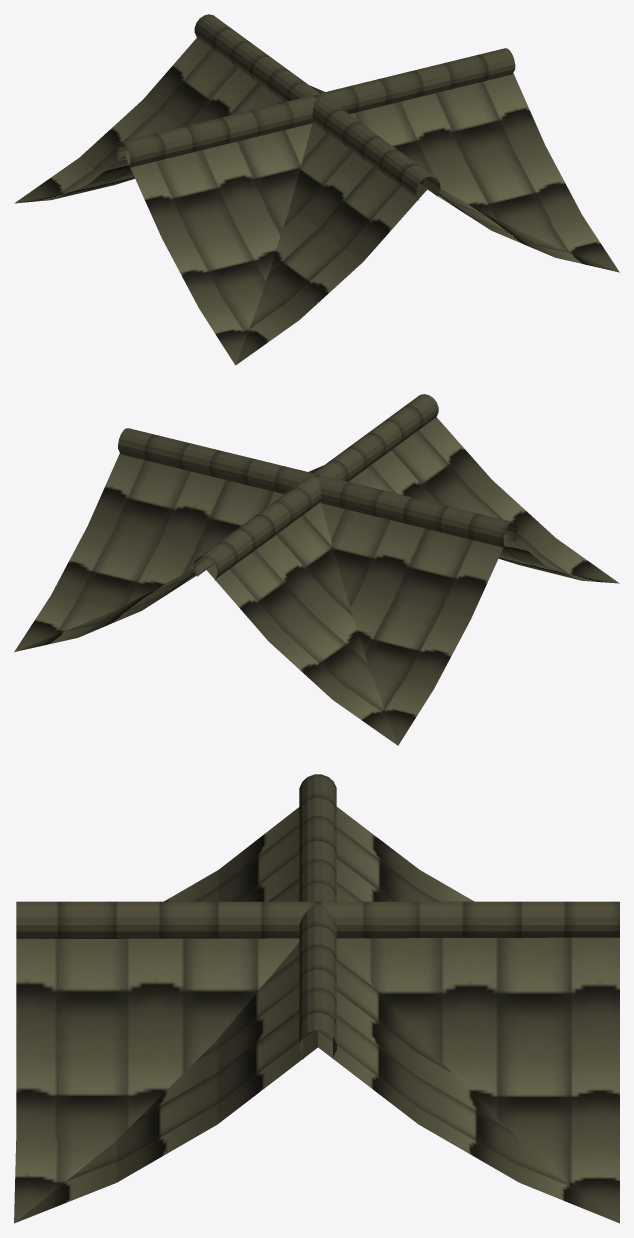
File: NNJ0510044.fbx
The picture shows the model from 3 angles, top to bottom: view 1: azimuth 30°, elevation 25°; view 2: azimuth 150°, elevation 25°; view 3: azimuth 270°, elevation 25°; orthographic projection. The views are drawn at different scales.
Visible parts, largest first — view 1: smNNJ0510044; view 2: smNNJ0510044; view 3: smNNJ0510044.
Part boxes in pixels (<box>): smNNJ0510044: <box>14,14,619,365</box>; smNNJ0510044: <box>14,394,619,745</box>; smNNJ0510044: <box>14,774,619,1223</box>.
Bounding box in the file's own units: 277 × 97.56 × 277.
1 material, 1 textured.
